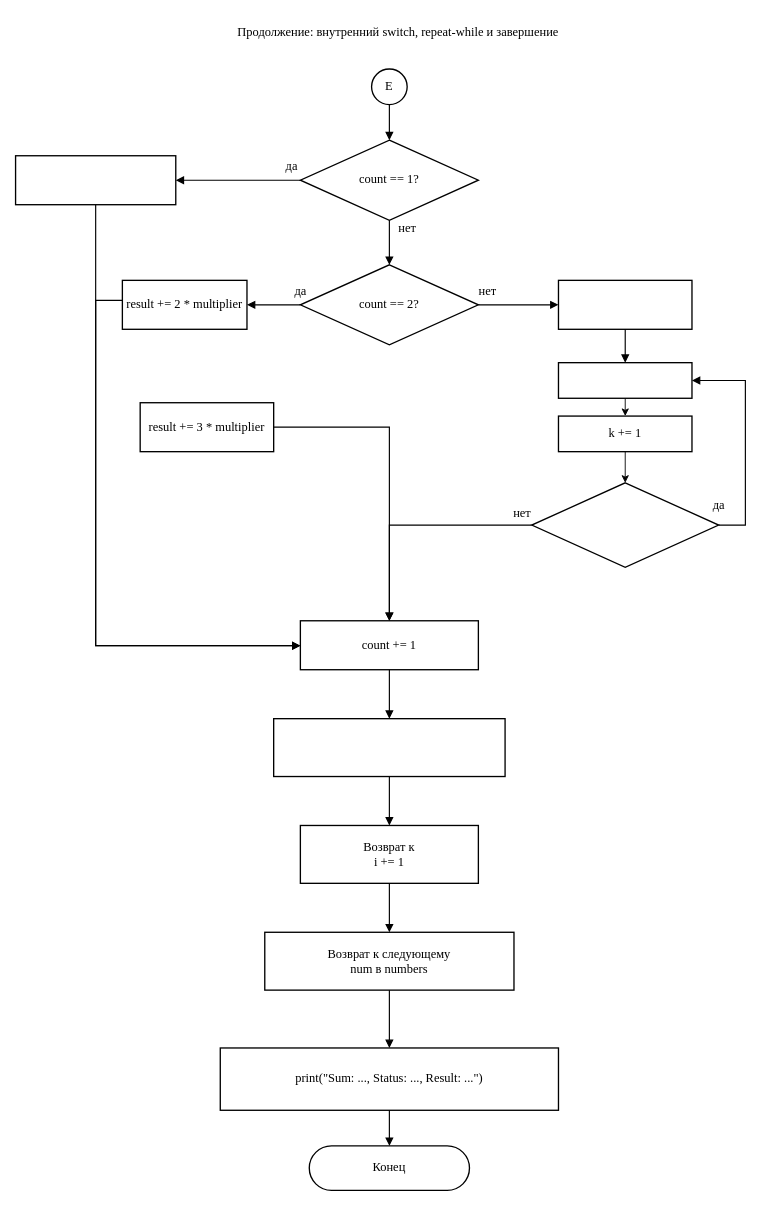
The diagram is 769 pixels wide and 1206 high, and some of its shapes have lost their labels. The centre of each missing label's shape, as x and y in pixels:
"k < 2?" goes at pixel 625 525.
"k = 0" goes at pixel 624 304.
"result += 1 * multiplier" goes at pixel 95 180.
"result -= 1" goes at pixel 624 380.
"Возврат к условию count < 3" goes at pixel 389 747.
